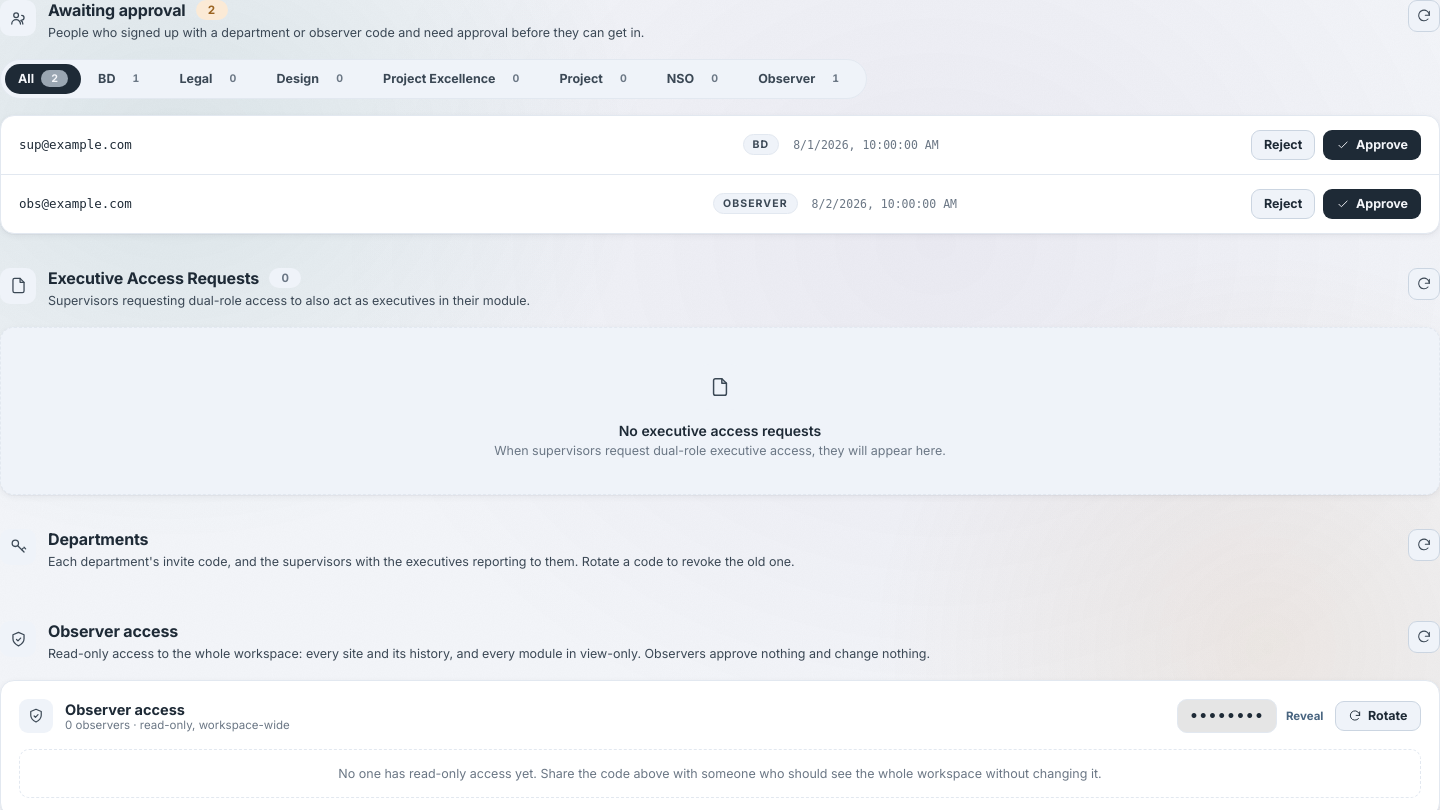
Test case: Awaiting approval — one queue › filters to a department without dragging observers along
Click the tab "BD 1". click: click(124, 79)
box: [85, 64, 162, 94]
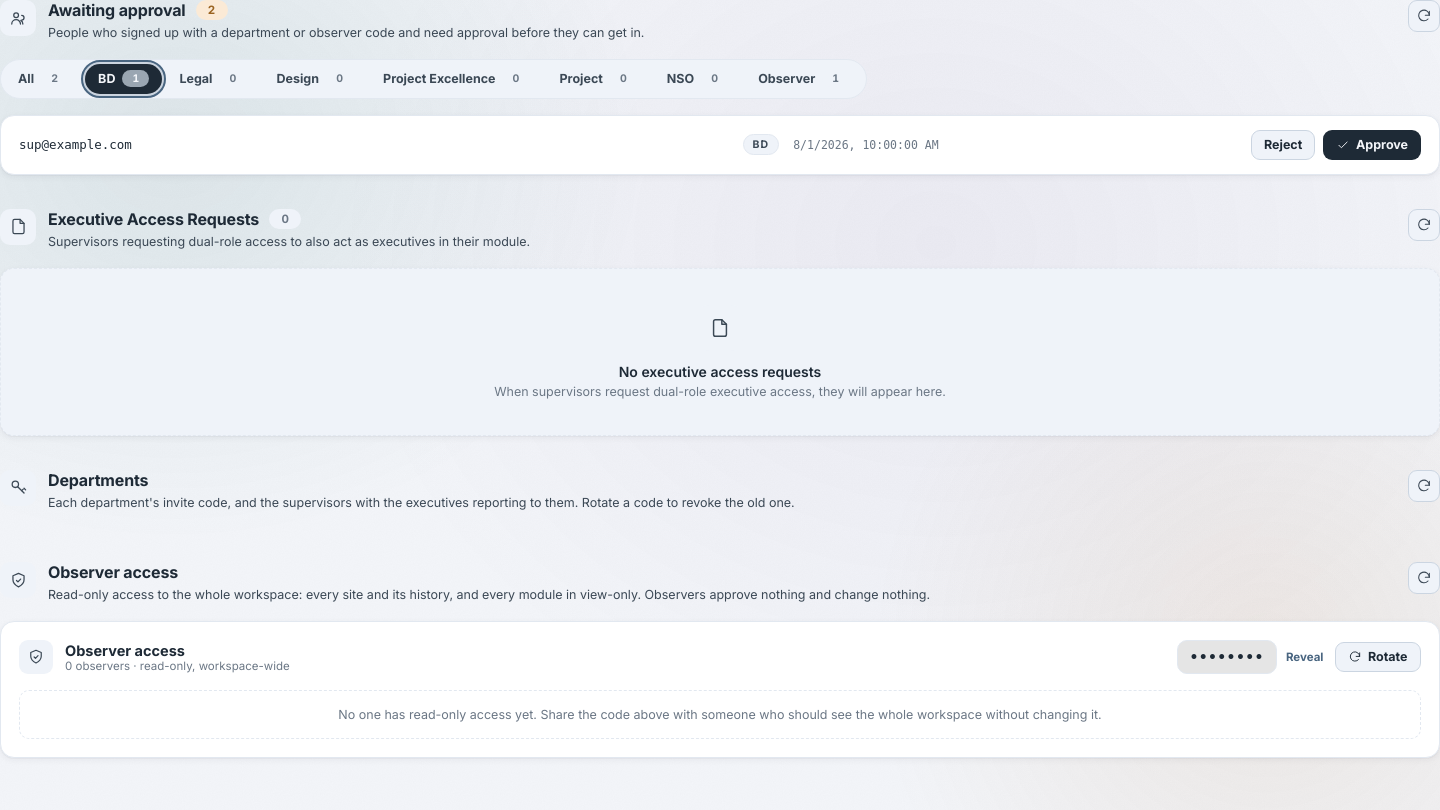
expect the text "sup@example.com" is shown: met, box [19, 137, 132, 152]
expect the text "obs@example.com" is gone: met
